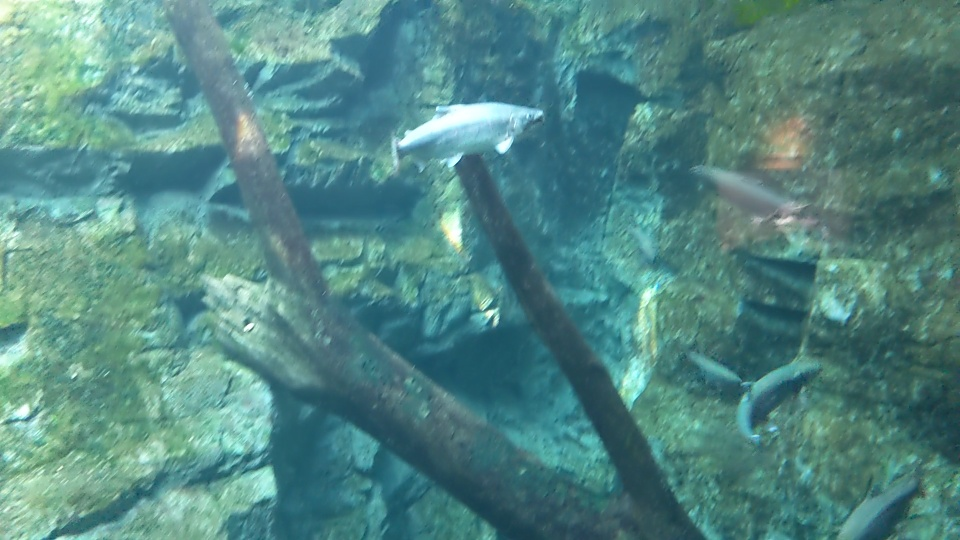Fish: (393, 97, 539, 172), (681, 157, 820, 224), (729, 354, 829, 441), (828, 466, 924, 540), (662, 332, 744, 385), (623, 219, 662, 273)
